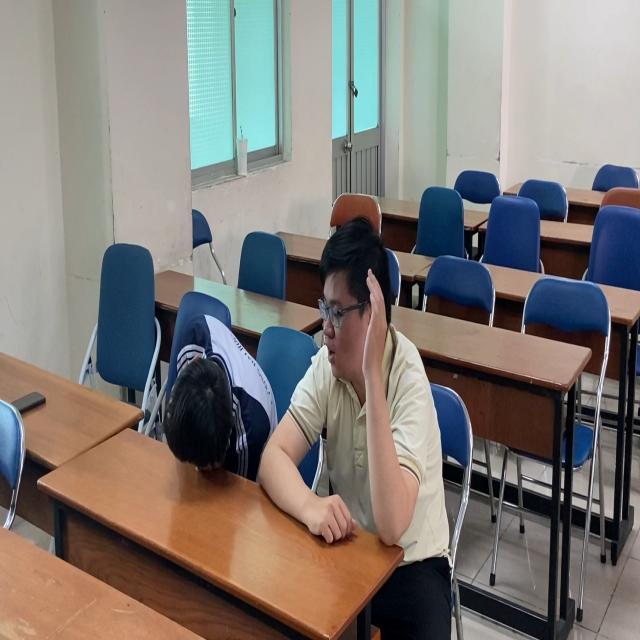raise_hand: (284, 206, 445, 551)
